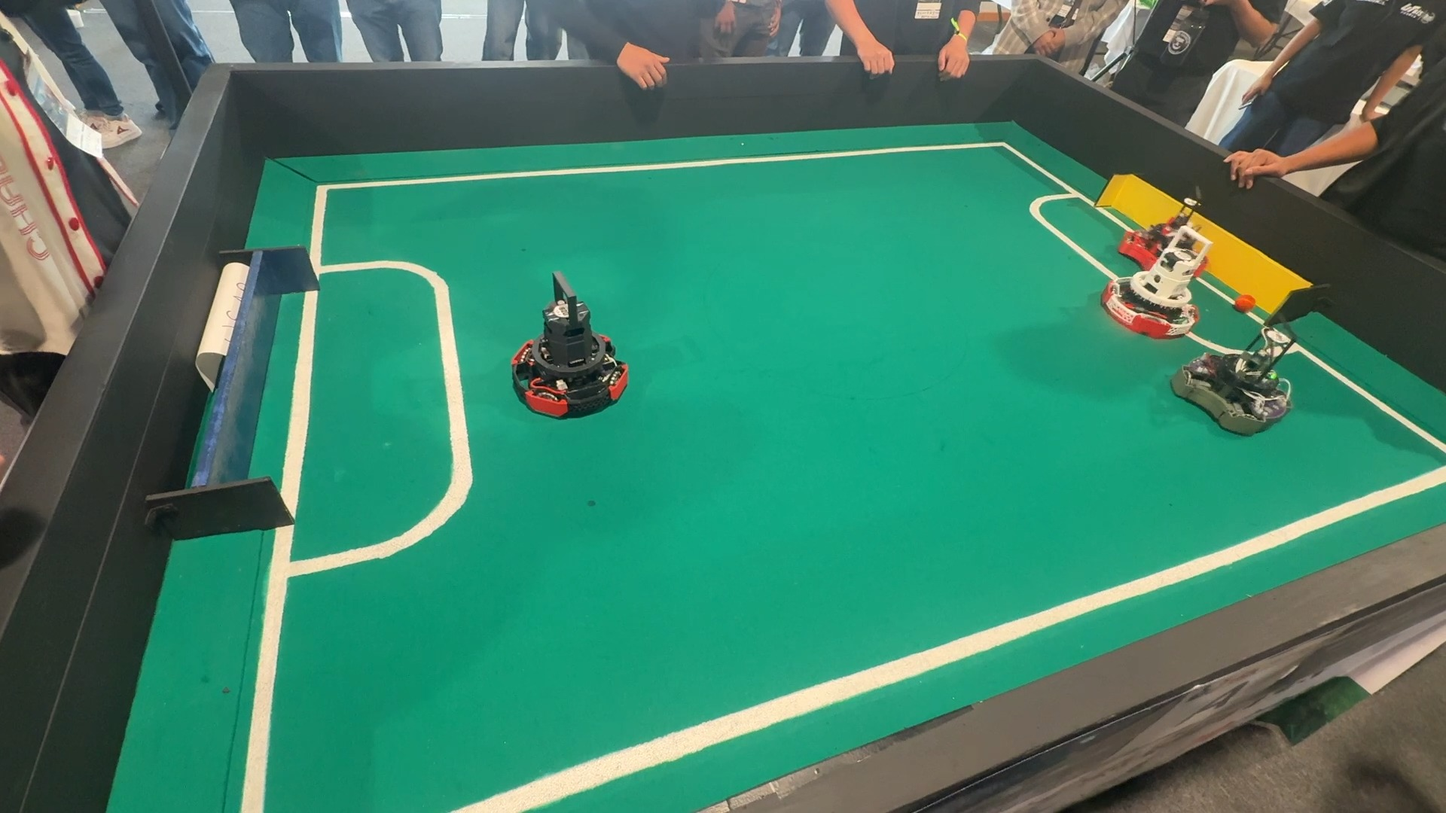Robot: (1154, 304, 1321, 444), (1091, 186, 1228, 346), (512, 272, 637, 433)
